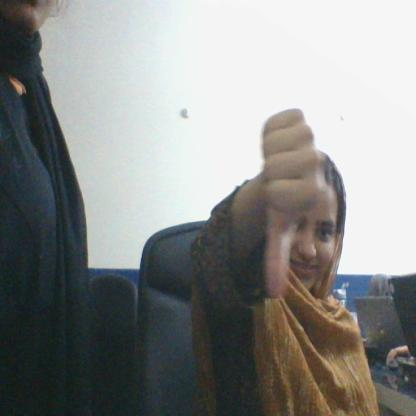thumbs-down: (252, 101, 329, 296)
